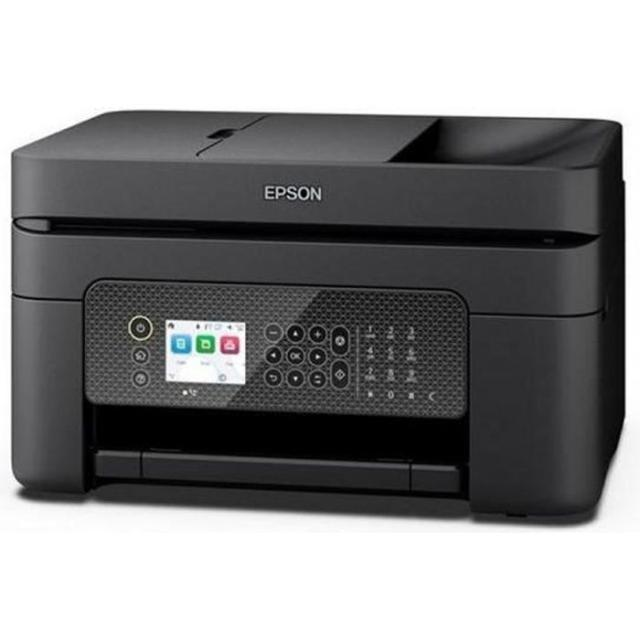printer: (9, 108, 626, 522)
